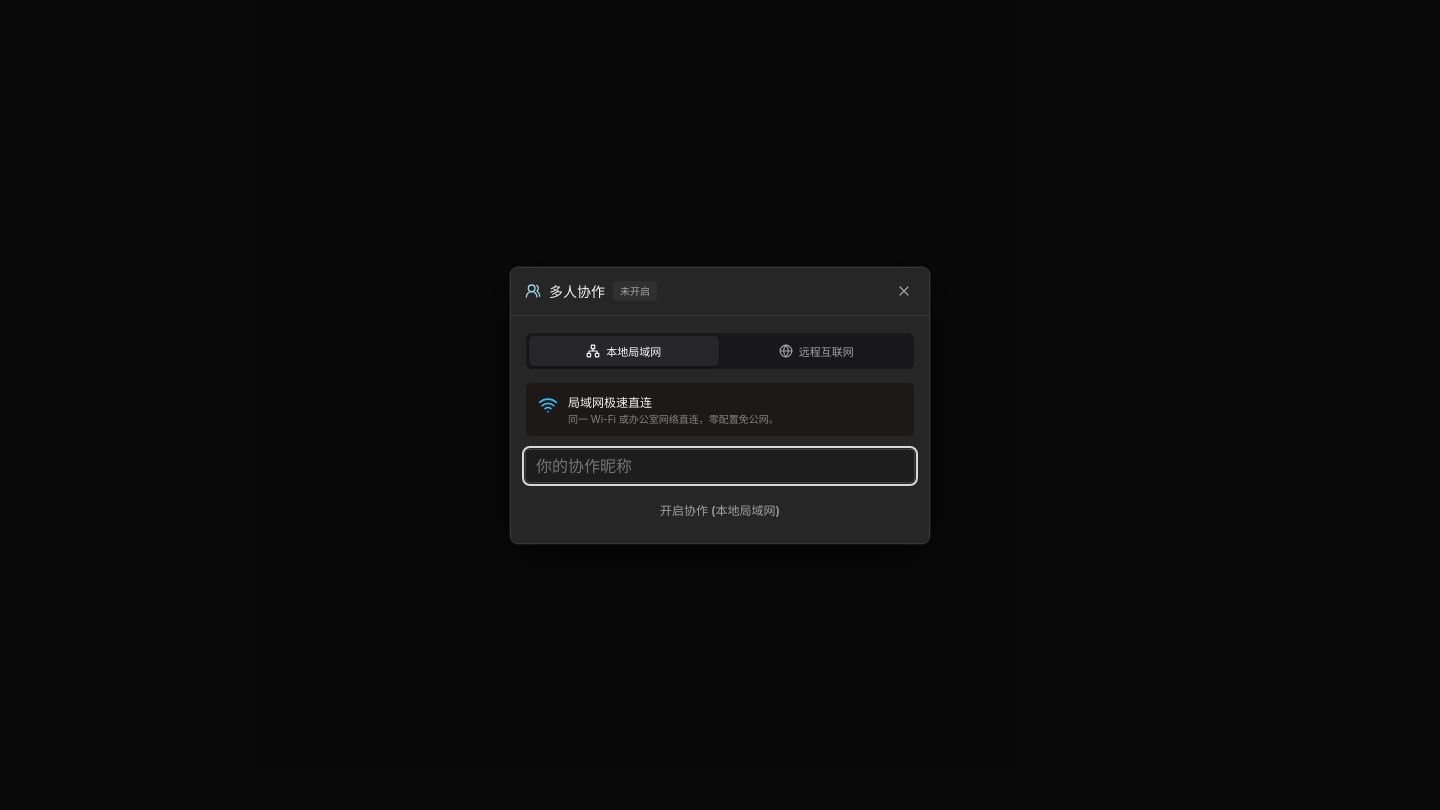
polls real progress while the initial download request is still pending
Later steps or results of the test are not shown.
Click the button "远程互联网" at (816, 350), box [722,336,911,366]
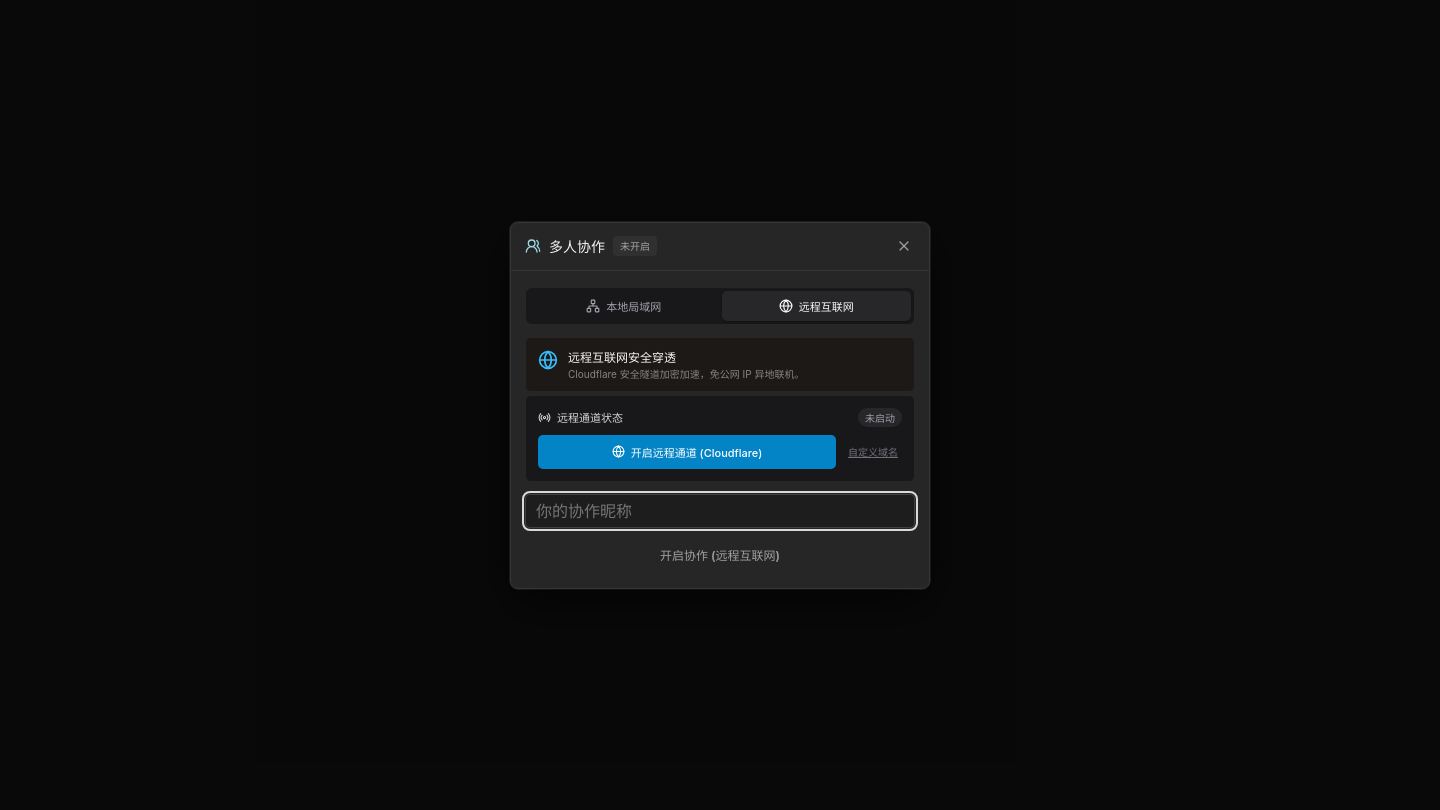
Click the button "开启远程通道 (Cloudflare)" at (687, 452), box [538,434,836,468]
Wait 1800 ms
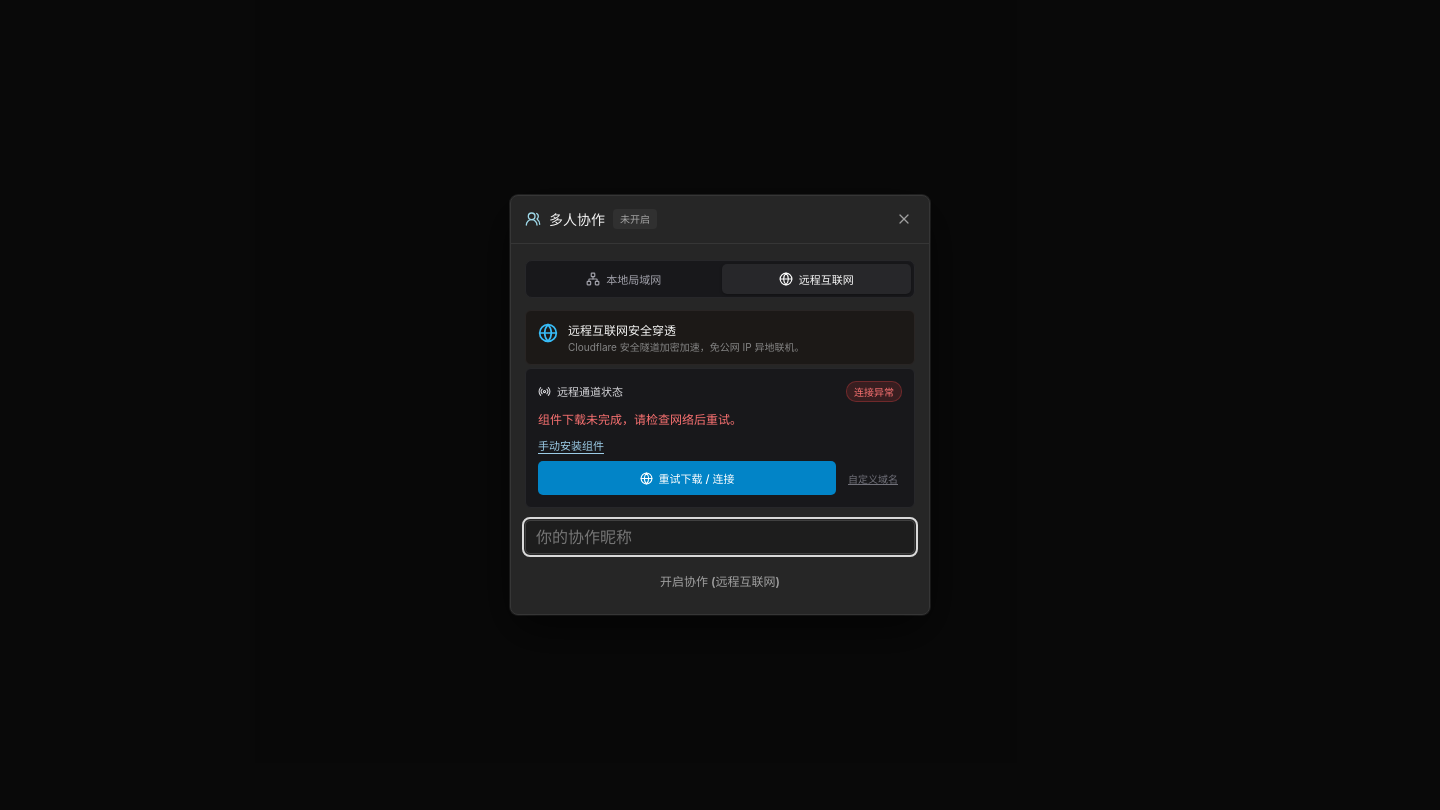
Expected: the button "重试下载 / 连接" is enabled, [538,461,836,495]
